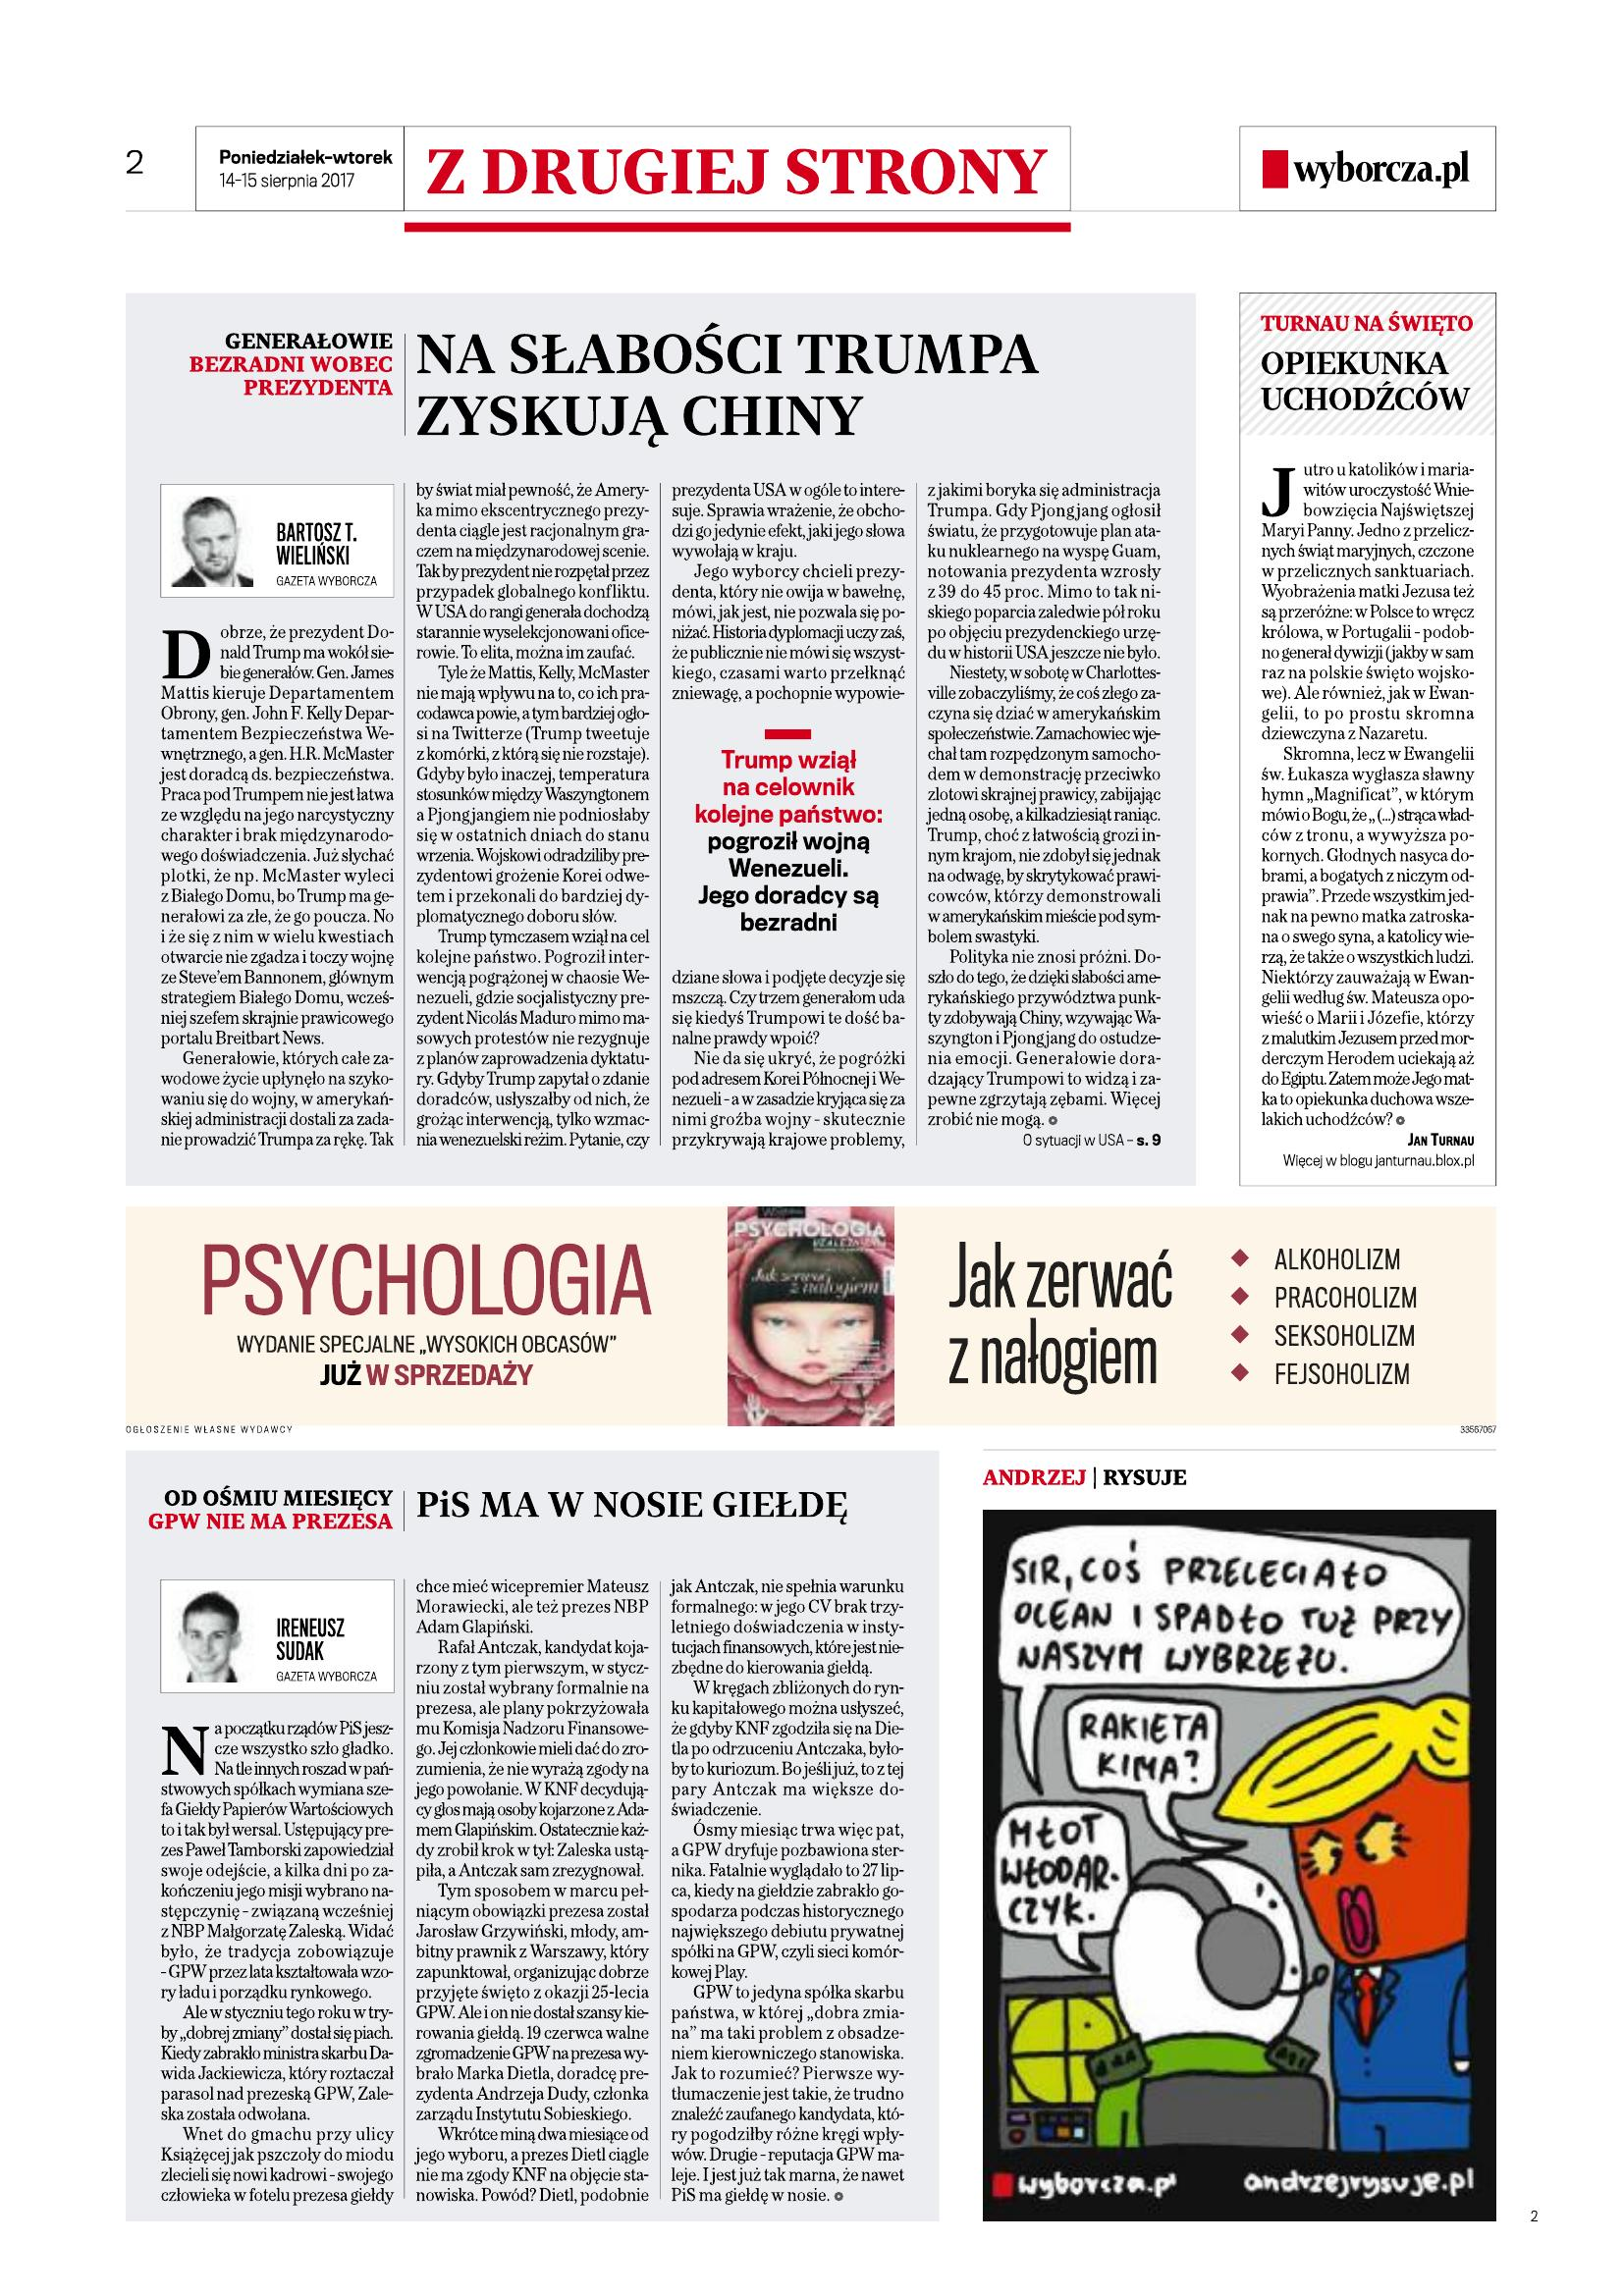article: (119, 284, 1200, 1190), (119, 1443, 943, 2222), (1233, 286, 1502, 1190)
